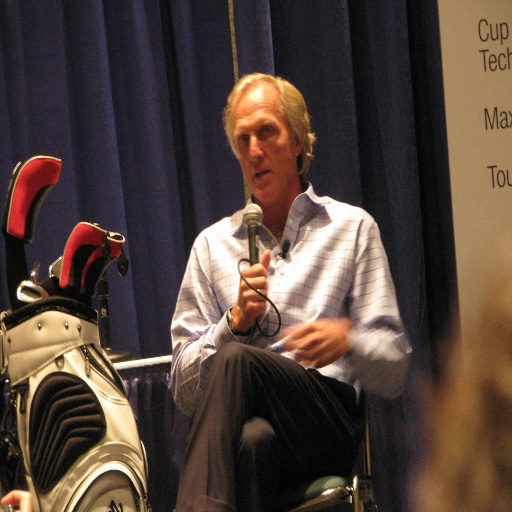hand: (280, 317, 351, 369), (233, 262, 277, 337), (0, 488, 31, 511)
